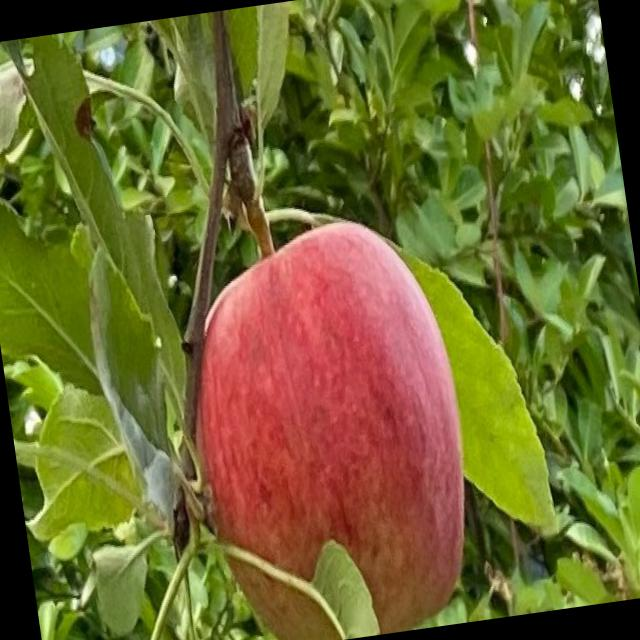Apples: (167, 209, 490, 639)
